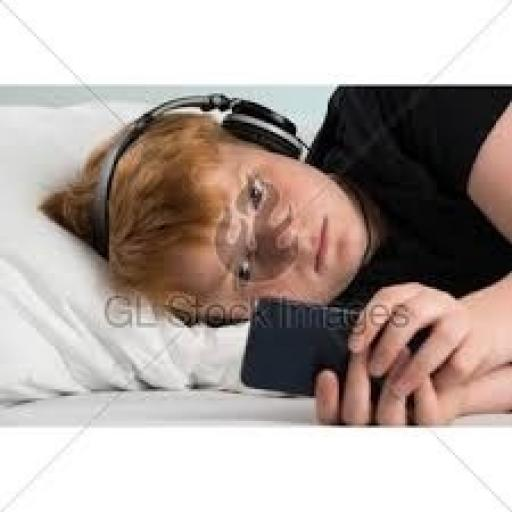texting: (36, 82, 510, 428)
